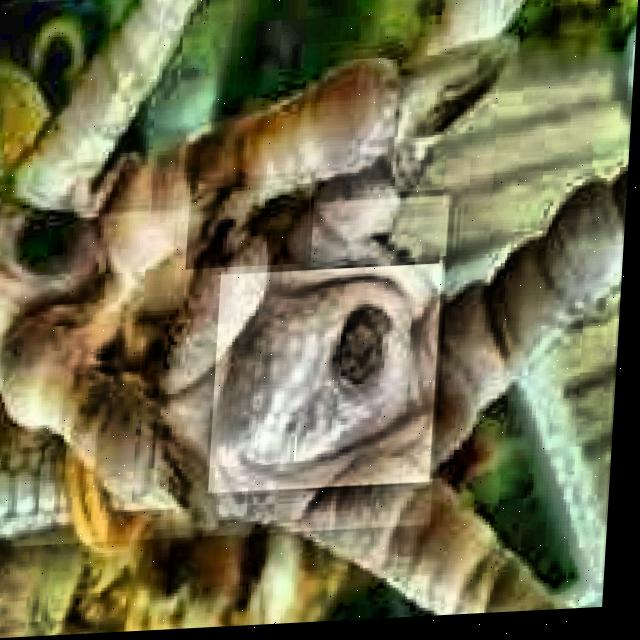Bumble foot: (213, 265, 437, 492), (0, 144, 153, 342)
